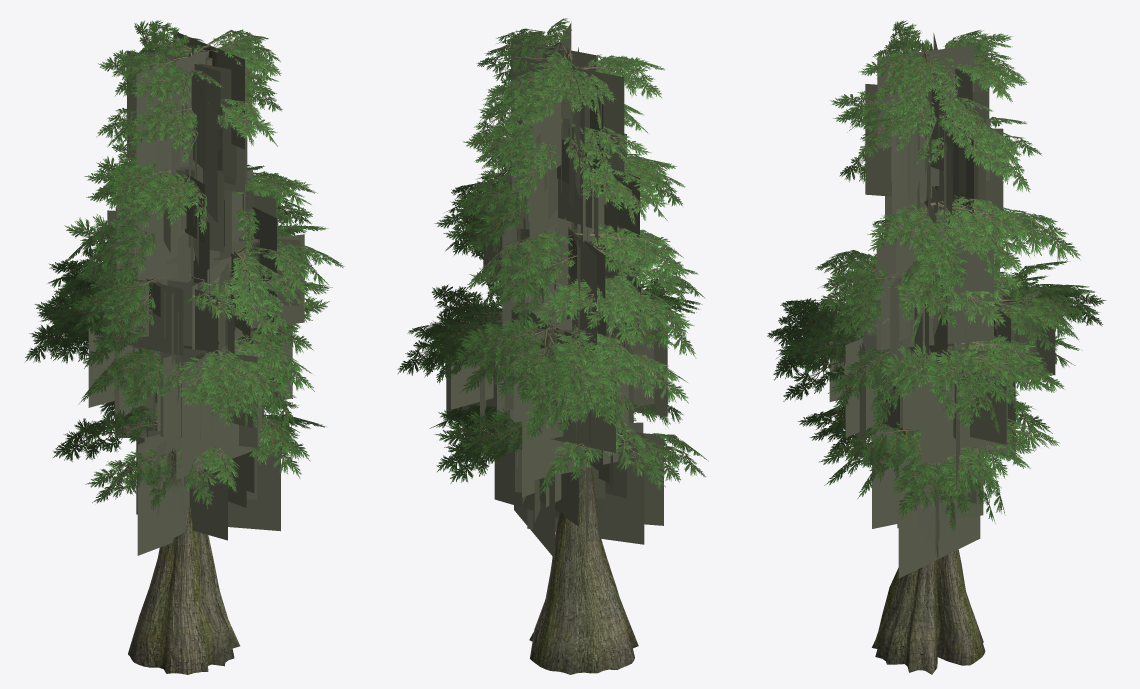
The model's file is bald-cypress.glb.
3 renders of one model, left to right at view 1: azimuth 30°, elevation 25°; view 2: azimuth 150°, elevation 25°; view 3: azimuth 270°, elevation 25°, orthographic.
Parts seen in each view (by area): view 1: cypres_chauve_cypreschauve_needles_D_cypreschauve_needles_D_, cypres_chauve_CypresChauve_mousse_D, cypres_chauve_cypreschauve_bark_D; view 2: cypres_chauve_cypreschauve_needles_D_cypreschauve_needles_D_, cypres_chauve_CypresChauve_mousse_D, cypres_chauve_cypreschauve_bark_D; view 3: cypres_chauve_cypreschauve_needles_D_cypreschauve_needles_D_, cypres_chauve_CypresChauve_mousse_D, cypres_chauve_cypreschauve_bark_D.
Part boxes in pixels (x1,y1,x2,y2): cypres_chauve_cypreschauve_needles_D_cypreschauve_needles_D_: (25,20,344,511); cypres_chauve_CypresChauve_mousse_D: (88,31,304,555); cypres_chauve_cypreschauve_bark_D: (128,44,257,674); cypres_chauve_cypreschauve_needles_D_cypreschauve_needles_D_: (397,18,708,495); cypres_chauve_CypresChauve_mousse_D: (446,22,667,558); cypres_chauve_cypreschauve_bark_D: (484,42,638,674); cypres_chauve_cypreschauve_needles_D_cypreschauve_needles_D_: (767,20,1106,532); cypres_chauve_CypresChauve_mousse_D: (829,33,1055,578); cypres_chauve_cypreschauve_bark_D: (861,43,1022,674).
Bounding box in the file's own units: 11.77 × 24.07 × 13.05.
3 materials, 3 textured.
